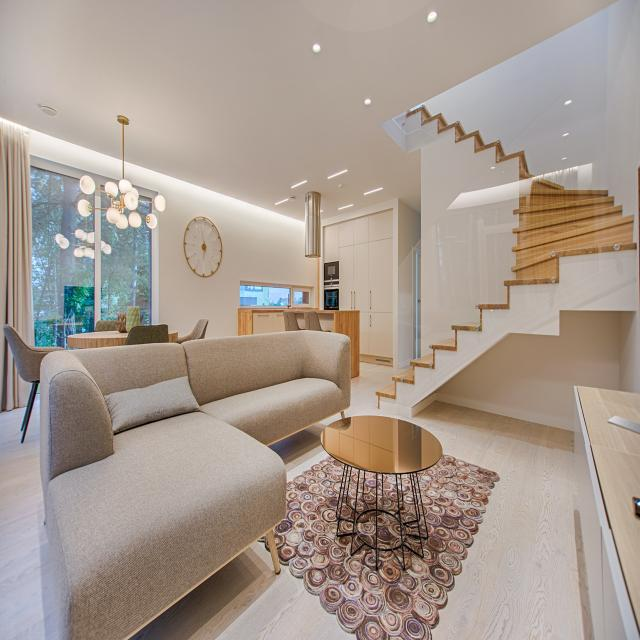Staircase: (406, 97, 634, 392)
a sofa: (42, 379, 278, 640), (51, 337, 392, 451)
chair: (0, 318, 60, 419), (114, 318, 179, 378), (182, 305, 214, 378), (278, 297, 305, 349), (301, 302, 326, 353)
hour: (184, 201, 231, 295)
table: (321, 404, 438, 537), (63, 300, 199, 369), (243, 290, 343, 347)
window: (14, 162, 154, 344)
